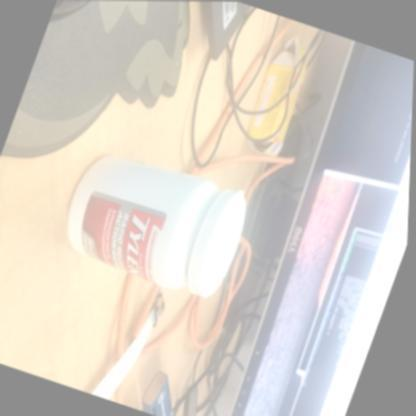jar: (57, 151, 251, 302)
